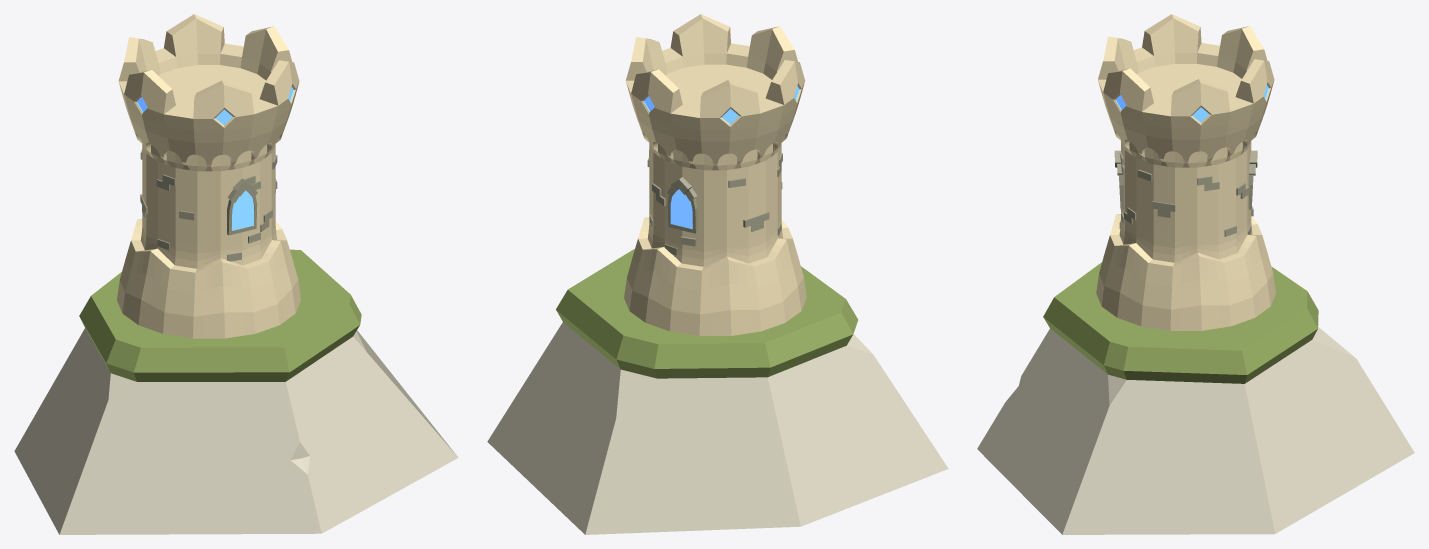
The model's file is torrev2.glb.
3 renders of one model, left to right at view 1: azimuth 30°, elevation 25°; view 2: azimuth 150°, elevation 25°; view 3: azimuth 270°, elevation 25°, orthographic. The views are drawn at different scales.
Parts seen in each view (by area): view 1: Circle, Cylinder002, Plane012, Plane008; view 2: Circle, Cylinder002, Plane003, Plane002; view 3: Circle, Cylinder002.
Boxes of the visible parts, x1,y1,x2,y2 form: Circle: (14, 249, 458, 534); Cylinder002: (117, 14, 300, 338); Plane012: (227, 178, 257, 235); Plane008: (232, 190, 253, 230); Circle: (487, 249, 948, 534); Cylinder002: (624, 14, 806, 335); Plane003: (667, 177, 697, 233); Plane002: (670, 189, 692, 229); Circle: (977, 262, 1414, 534); Cylinder002: (1096, 14, 1275, 330).
Bounding box in the file's own units: 25.74 × 26.48 × 26.42.
